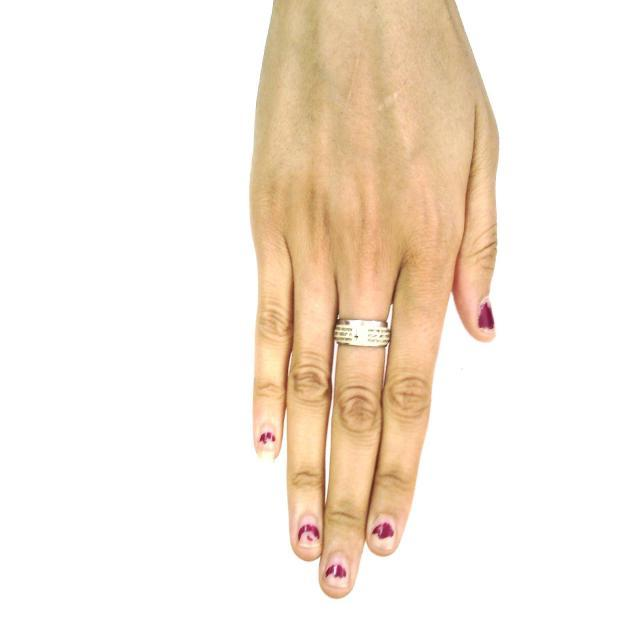Fingernail: (257, 426, 277, 462), (325, 559, 347, 589), (372, 520, 395, 543), (298, 522, 319, 547), (479, 299, 494, 329)
